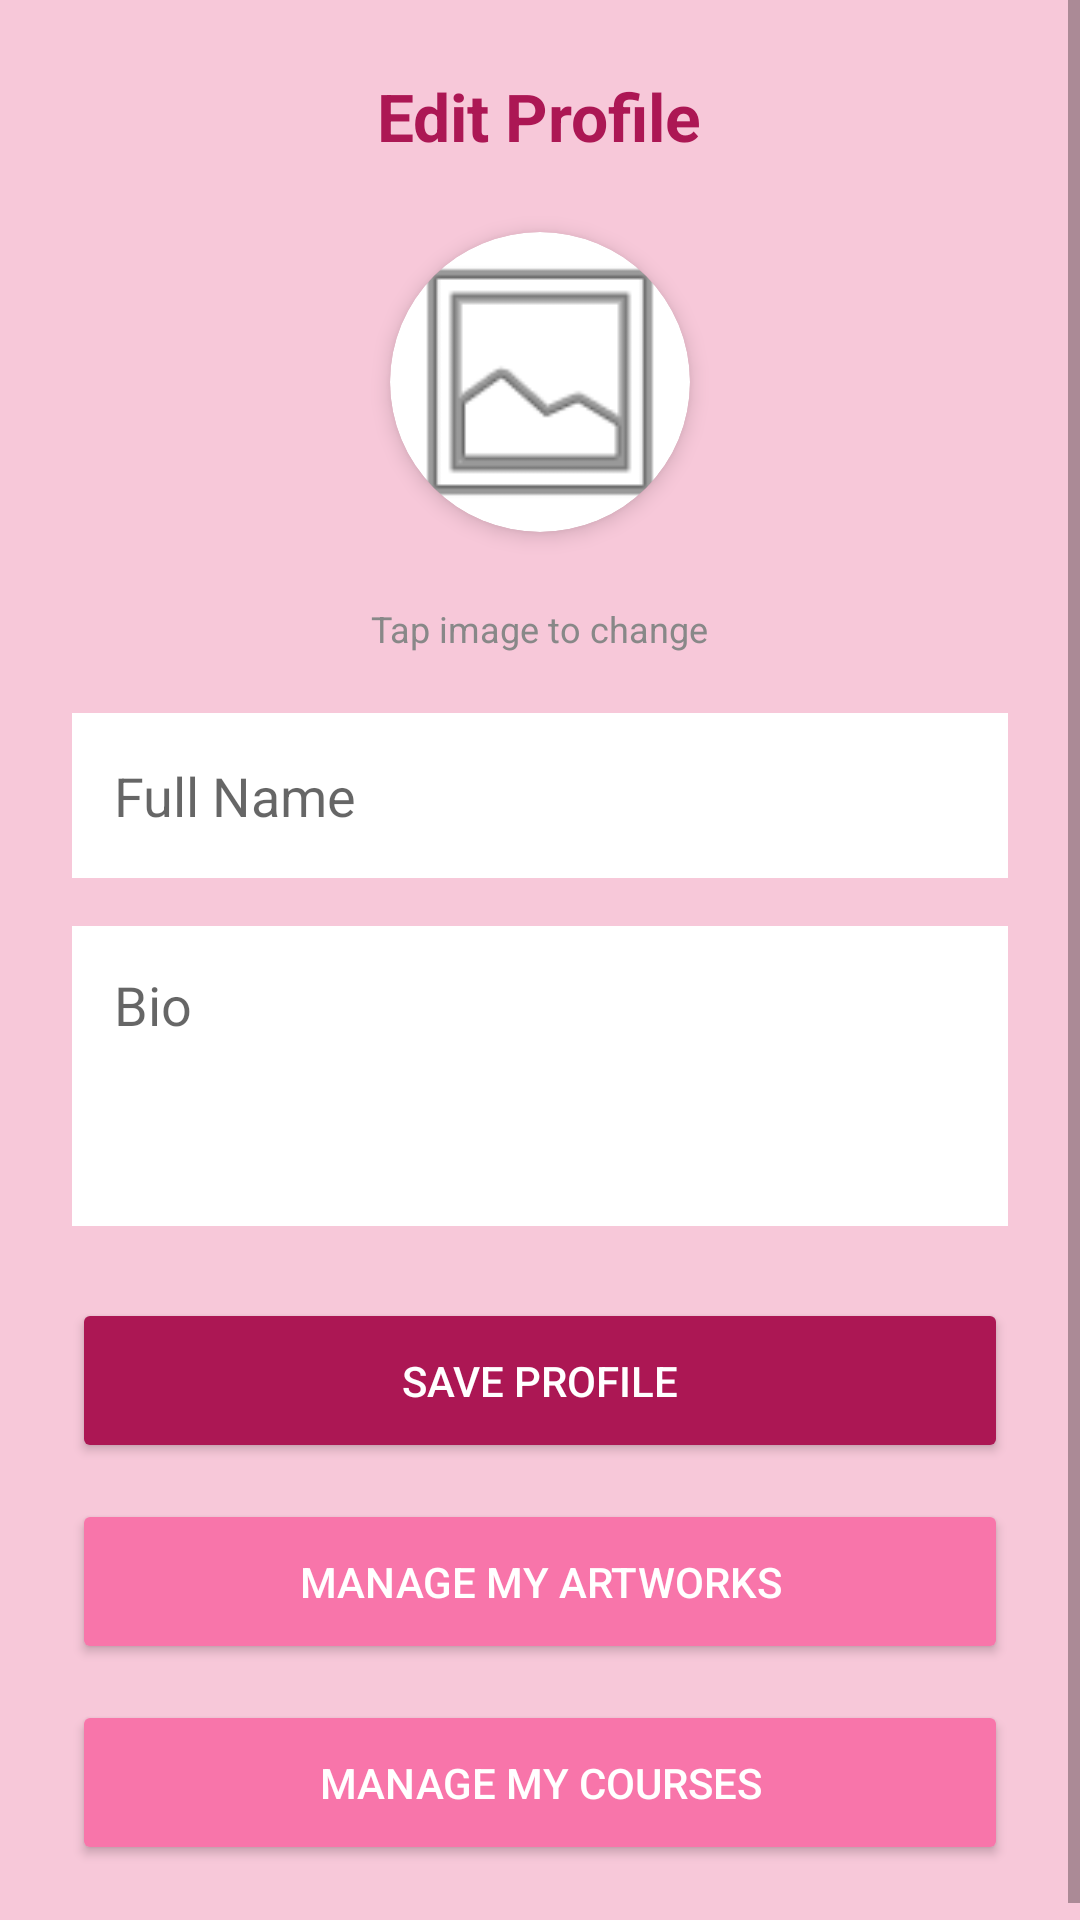

Where to tap for icons on this 1080 × 1920 app screen, as point (x, y):
gallery: point (540, 382)
